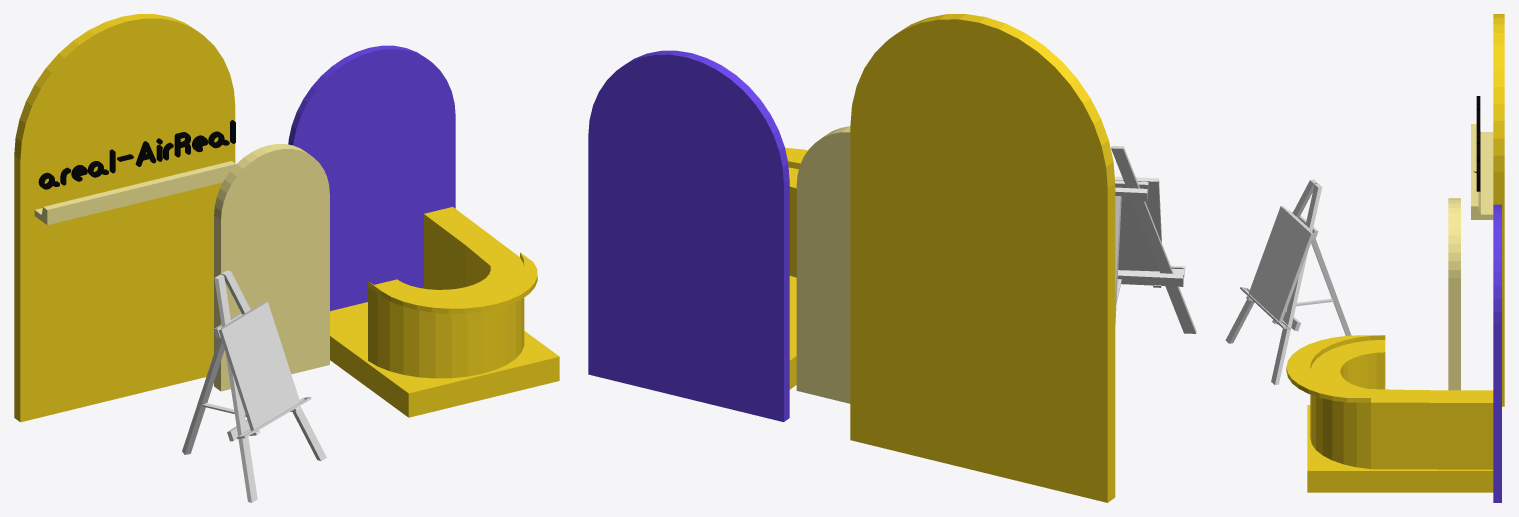
Rendered from Homepanel.fbx.
3 renders of one model, left to right at view 1: azimuth 30°, elevation 25°; view 2: azimuth 150°, elevation 25°; view 3: azimuth 270°, elevation 25°, orthographic. The views are drawn at different scales.
Parts seen in each view (by area): view 1: Cube.005, Cube.004, Cube.007, Cube.003, Cube.001, Cube, Cube.008, Curve.001; view 2: Cube.005, Cube.004, Cube.003, Cube, Cube.001, Cube.007; view 3: Cube.007, Cube.001, Cube, Cube.005, Cube.004, Cube.003, Cube.008, Curve.001.
Part boxes in pixels (<box>): Cube.005: <box>14,14,235,422</box>; Cube.004: <box>288,45,455,310</box>; Cube.007: <box>330,207,559,417</box>; Cube.003: <box>214,144,329,391</box>; Cube.001: <box>218,302,300,431</box>; Cube: <box>182,270,326,502</box>; Cube.008: <box>34,161,235,225</box>; Curve.001: <box>38,120,235,189</box>; Cube.005: <box>850,14,1115,502</box>; Cube.004: <box>588,50,789,421</box>; Cube.003: <box>796,126,850,403</box>; Cube: <box>1111,146,1196,333</box>; Cube.001: <box>1114,176,1161,271</box>; Cube.007: <box>785,147,807,389</box>; Cube.007: <box>1286,335,1493,492</box>; Cube.001: <box>1248,206,1314,323</box>; Cube: <box>1225,179,1351,385</box>; Cube.005: <box>1493,14,1504,406</box>; Cube.004: <box>1493,204,1501,502</box>; Cube.003: <box>1448,198,1460,390</box>; Cube.008: <box>1471,124,1493,219</box>; Curve.001: <box>1473,96,1480,191</box>.
Bounding box in the file's own units: 187 × 154 × 116.
